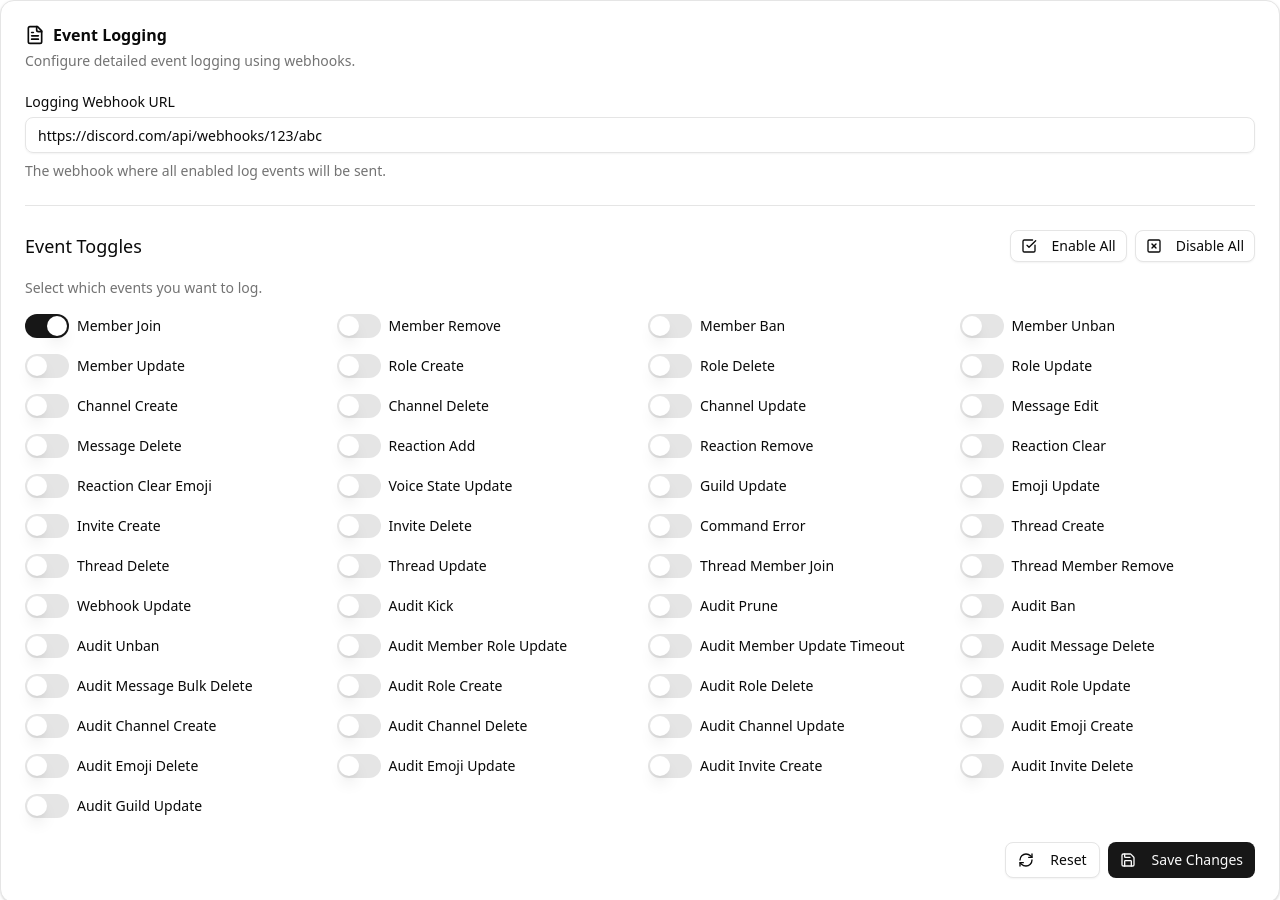
LoggingSettings › disables all events when "Disable All" is clicked but does not save
The width and height of the screenshot is (1280, 900).
Click the button "Disable All" at (1195, 246), box [1135,230,1255,262]
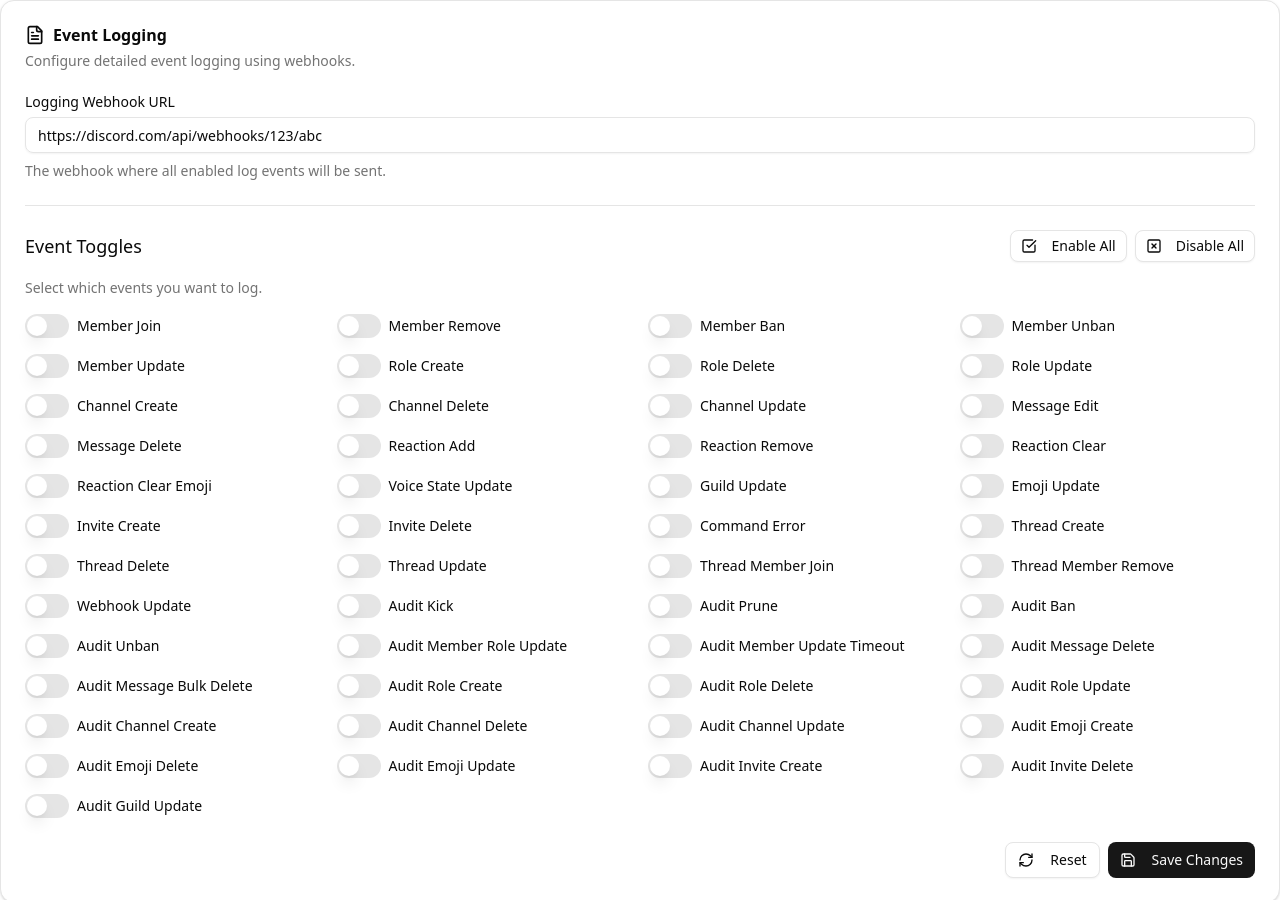
Check: the 2nd switch named "Member Remove" is not checked, box [336,314,380,338]
Check: the 1st switch named "Member Join" is not checked, box [25,314,69,338]
